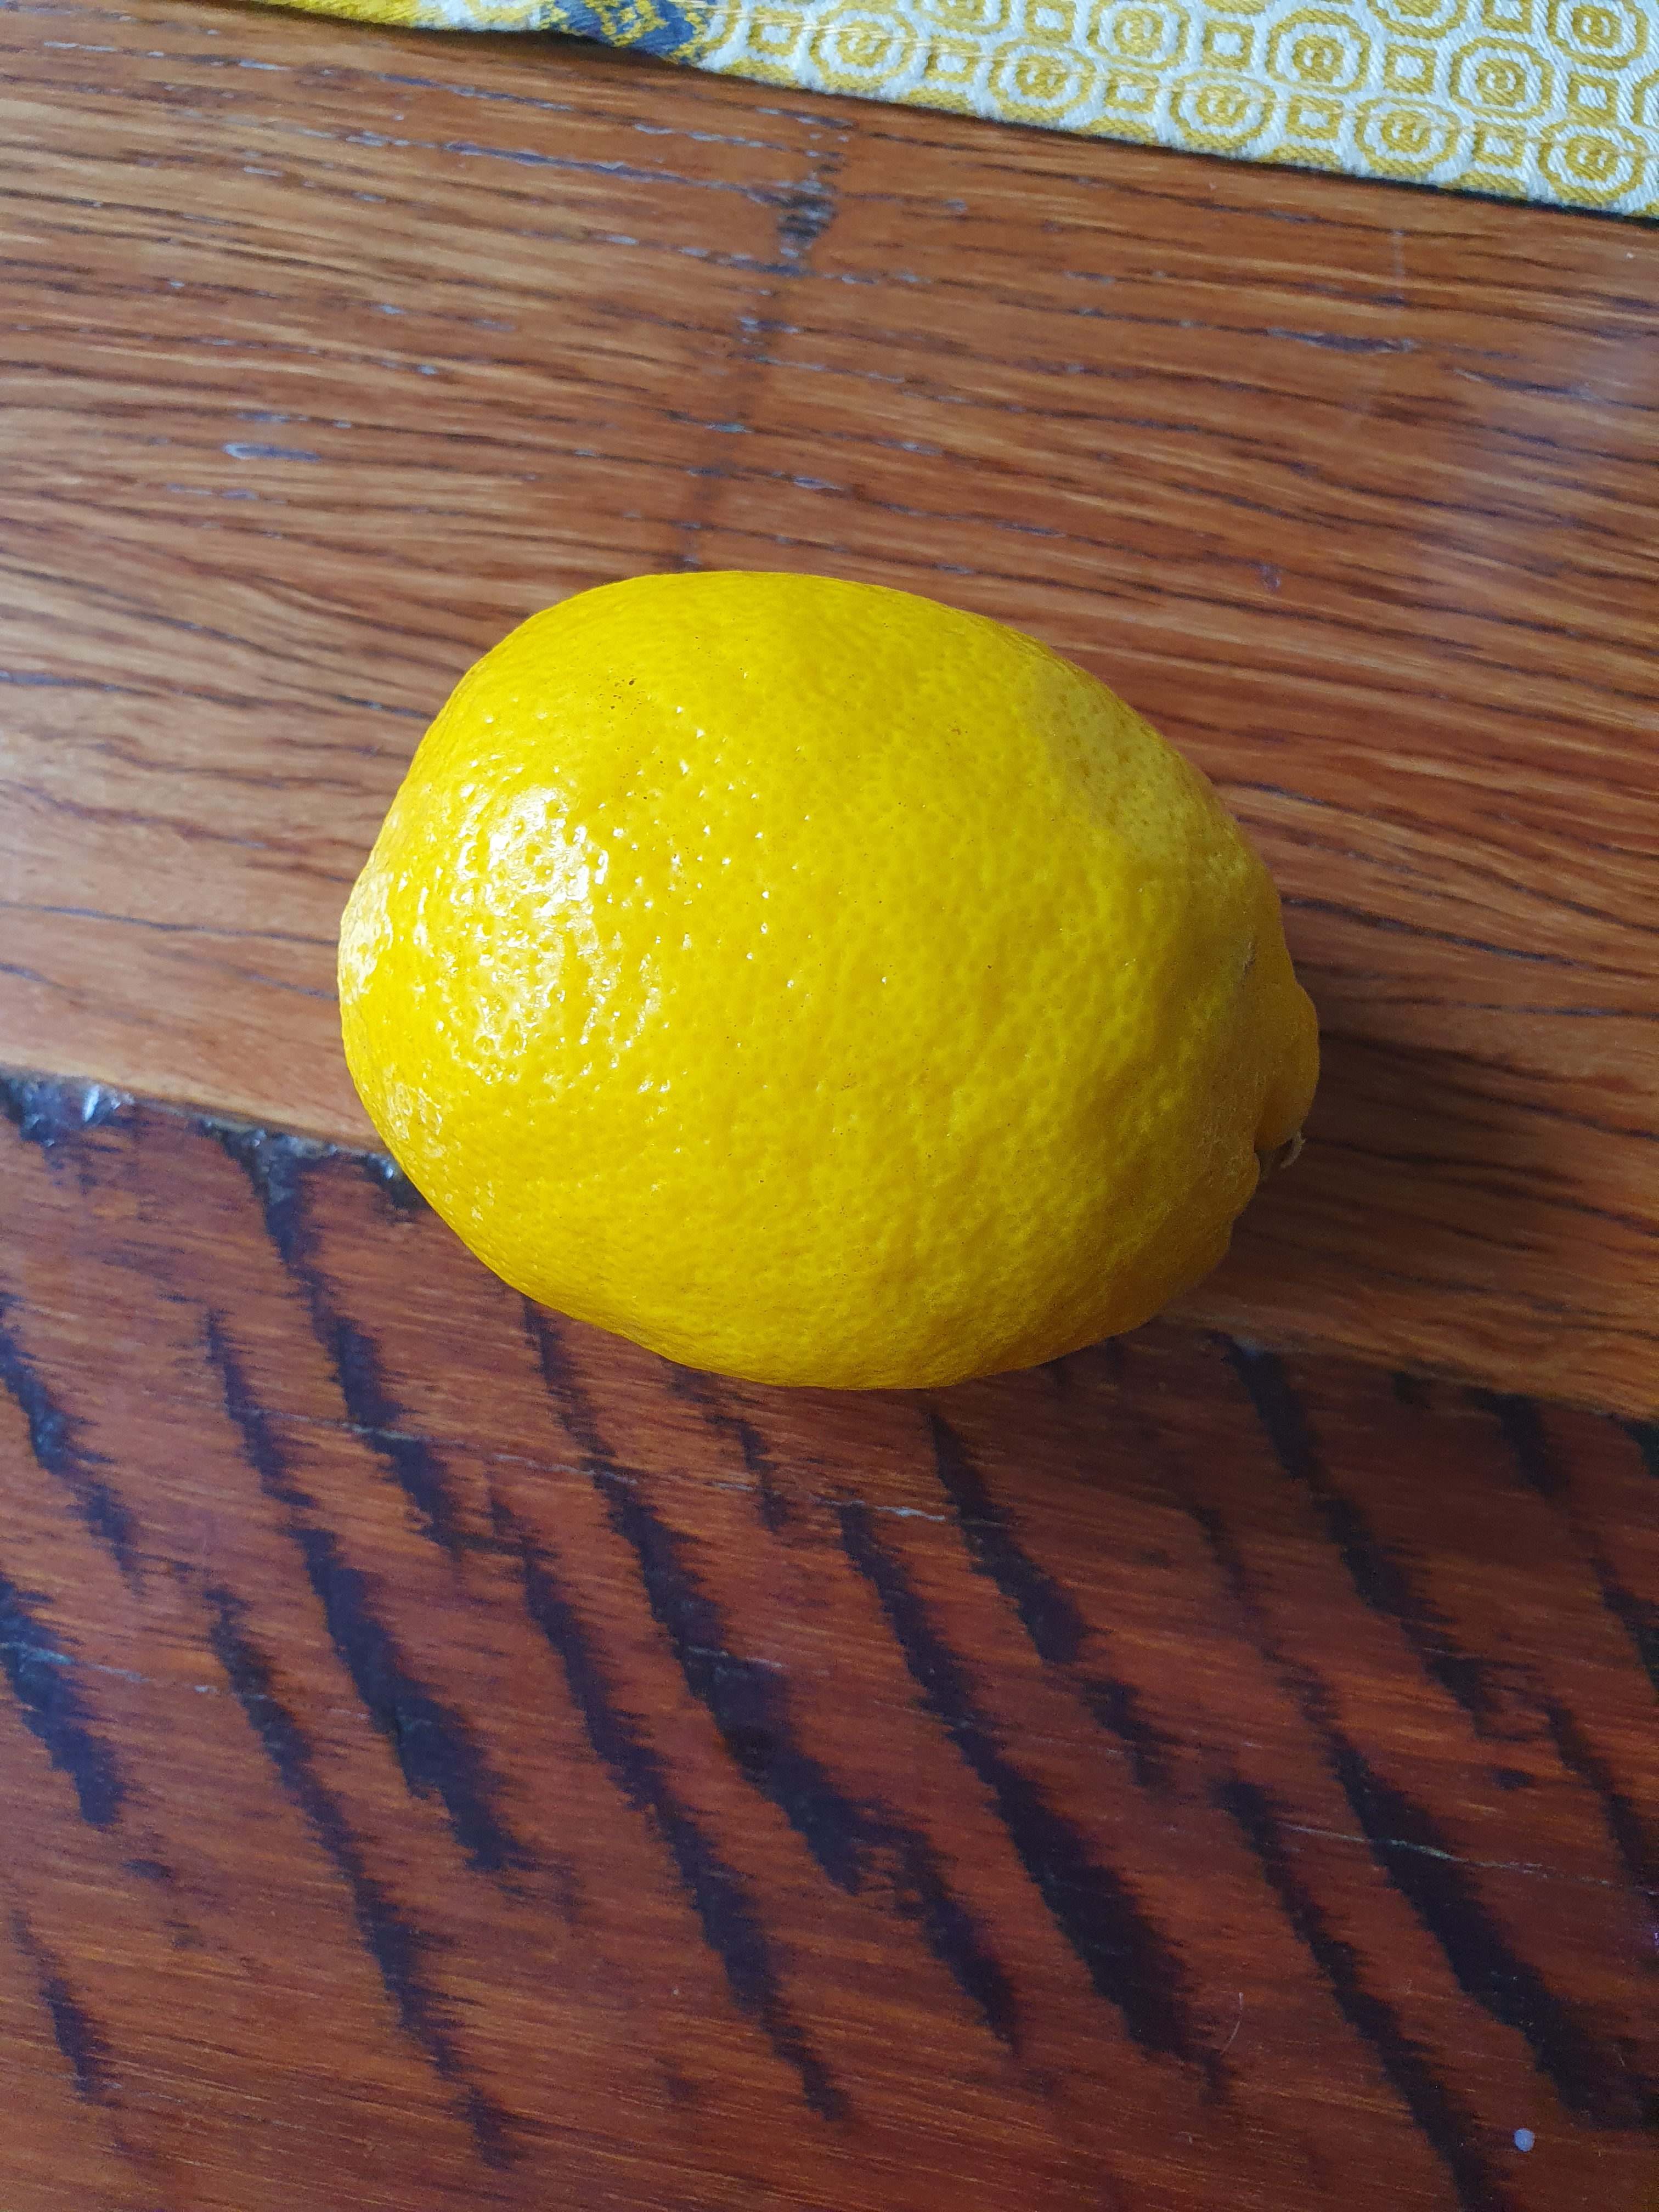lemon: (270, 550, 1373, 1406)
